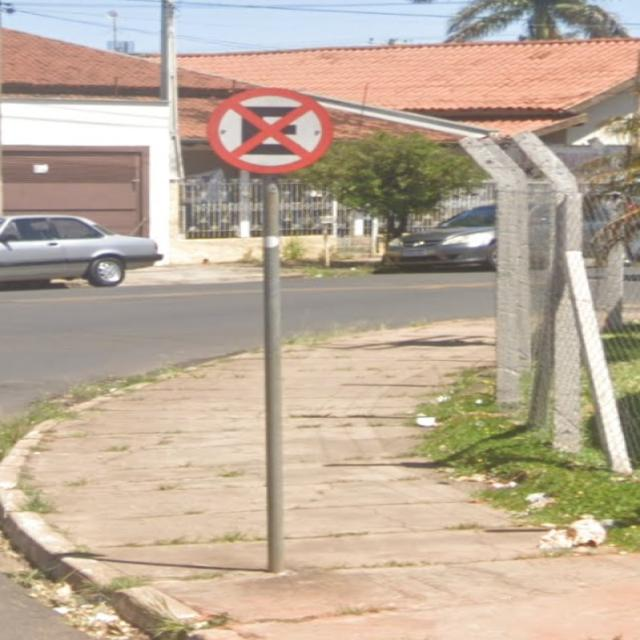no parking: (184, 56, 348, 180)
